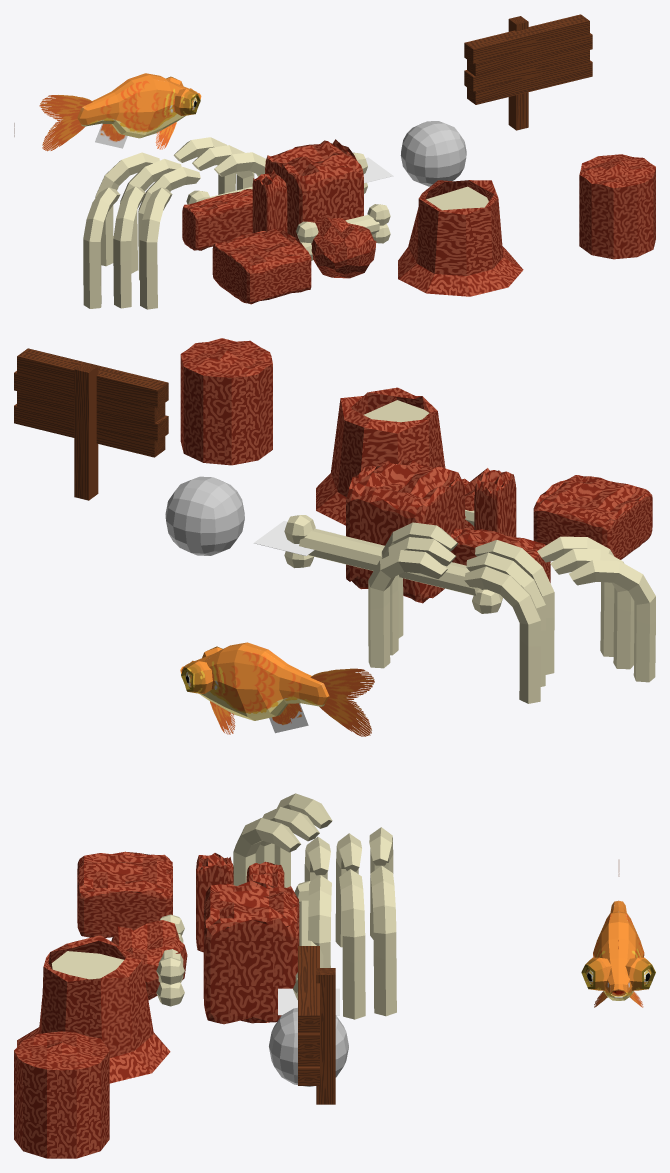
File: sign.fbx
The picture shows the model from 3 angles, top to bottom: view 1: azimuth 30°, elevation 25°; view 2: azimuth 150°, elevation 25°; view 3: azimuth 270°, elevation 25°; orthographic projection. The views are drawn at different scales.
Parts seen in each view (by area): view 1: Meat_volcano, Sign, Meat_cylinder, Ribs, Ribs.001, Meat_block.003, Meat_block, FishBody, Eyeball, Meat_block.001, meat_chunk, Meat_block.002 (+4 smaller); view 2: Ribs.001, Sign, Meat_cylinder, Meat_volcano, Meat_block.003, Ribs, FishBody, Meat_block, Eyeball, Bone, FishTail, Meat_block.002 (+3 smaller); view 3: Meat_block.003, Meat_volcano, Ribs.001, Meat_cylinder, Meat_block, Sign, Ribs, FishBody, meat_chunk, Eyeball, Meat_block.002, Bone.001 (+3 smaller).
Boxes of the visible parts, <box> form: Meat_volcano: <box>398,180,523,296</box>; Sign: <box>464,14,592,130</box>; Meat_cylinder: <box>579,154,655,259</box>; Ribs: <box>83,186,172,309</box>; Ribs.001: <box>95,137,266,280</box>; Meat_block.003: <box>265,139,363,241</box>; Meat_block: <box>212,229,311,304</box>; FishBody: <box>77,73,201,138</box>; Eyeball: <box>400,121,466,186</box>; Meat_block.001: <box>182,189,252,250</box>; meat_chunk: <box>311,215,376,278</box>; Meat_block.002: <box>252,169,287,233</box>; Ribs.001: <box>368,522,554,703</box>; Sign: <box>14,348,168,500</box>; Meat_cylinder: <box>180,338,272,465</box>; Meat_volcano: <box>316,387,445,525</box>; Meat_block.003: <box>346,460,464,603</box>; Ribs: <box>537,536,655,682</box>; FishBody: <box>180,642,329,720</box>; Meat_block: <box>533,475,652,559</box>; Eyeball: <box>165,476,244,555</box>; Bone: <box>284,515,502,613</box>; FishTail: <box>310,668,374,736</box>; Meat_block.002: <box>474,470,516,537</box>; Meat_block.003: <box>203,880,299,1024</box>; Meat_volcano: <box>17,935,170,1083</box>; Ribs.001: <box>304,827,396,1019</box>; Meat_cylinder: <box>14,1031,109,1158</box>; Meat_block: <box>77,851,172,937</box>; Sign: <box>298,946,335,1104</box>; Ribs: <box>233,793,332,887</box>; FishBody: <box>581,900,655,1000</box>; meat_chunk: <box>111,920,187,1000</box>; Eyeball: <box>269,1007,348,1086</box>; Meat_block.002: <box>196,853,233,952</box>; Bone.001: <box>156,914,184,1006</box>.
Bounding box in the file's own units: 1517 × 460 × 1341.
